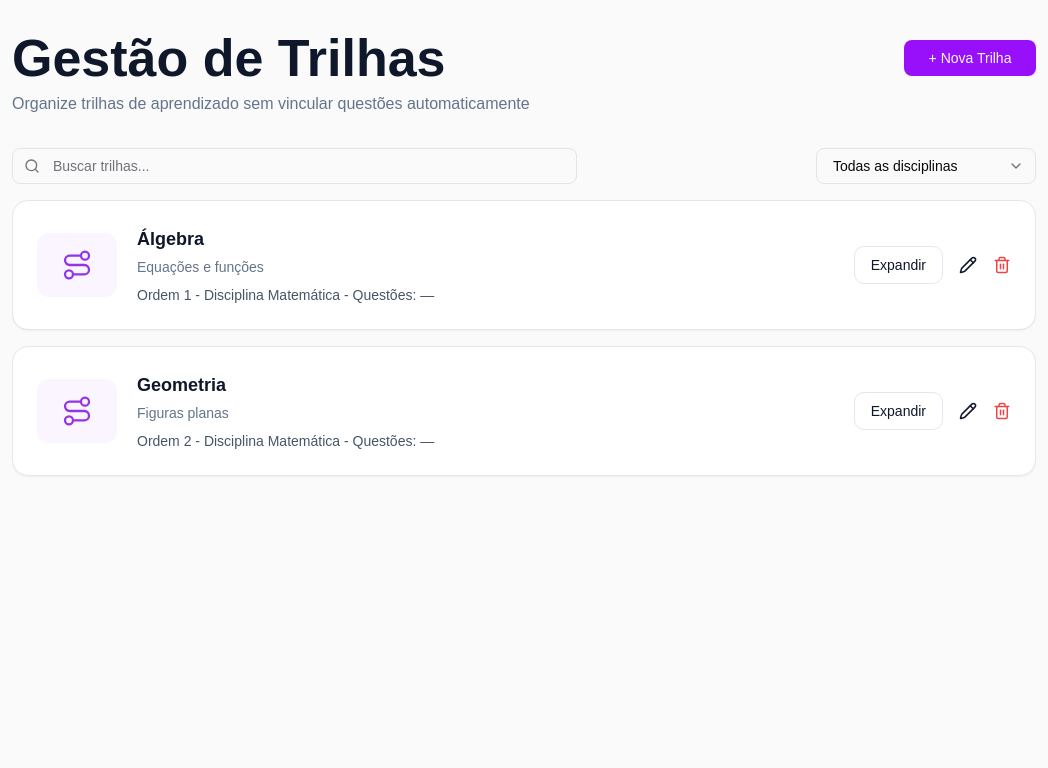
Test: TrailsPage › carrega questões apenas ao expandir e reaproveita o cache ao recolher e expandir
The image size is (1048, 768).
Expected: the heading "Álgebra" is shown, [137,229,204,249]
Click the button "Expandir" in the row of "Equações e funções" at {"x": 898, "y": 265}, box [854,246,943,284]
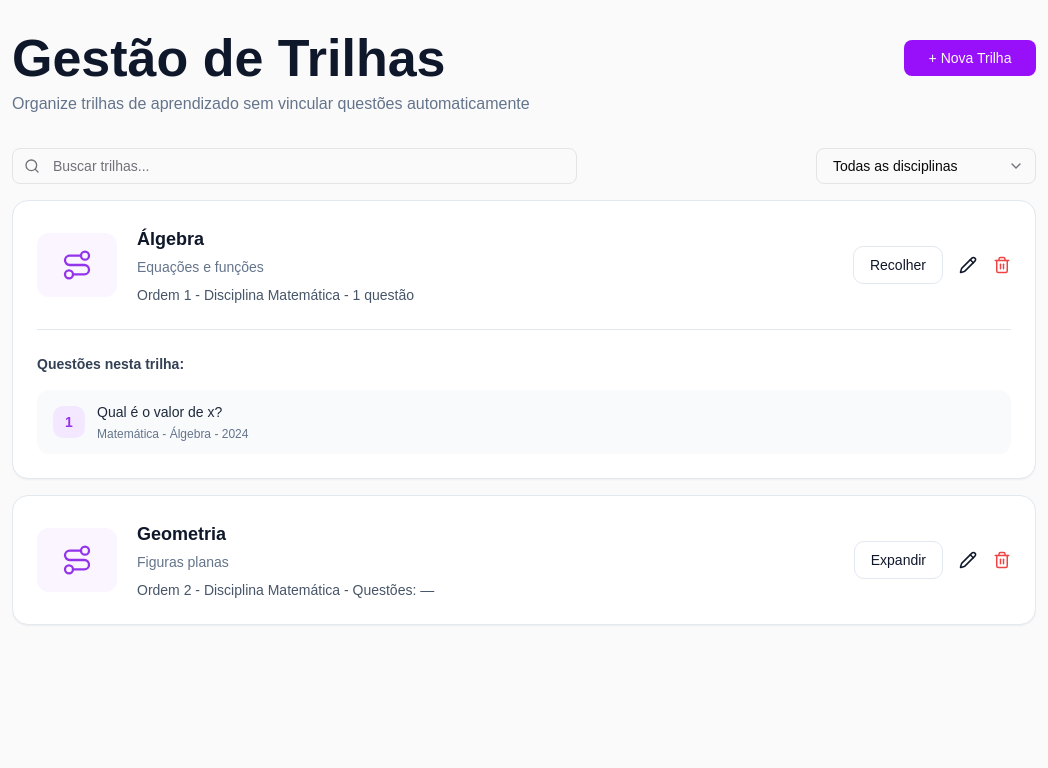
Expected: the text "Qual é o valor de x?" is shown, [97,404,222,420]
Expected: the text "Ordem 1 - Disciplina Matemática - 1 questão" is shown, [137,287,414,303]
Click the button "Recolher" at {"x": 898, "y": 265}, box [853,246,943,284]
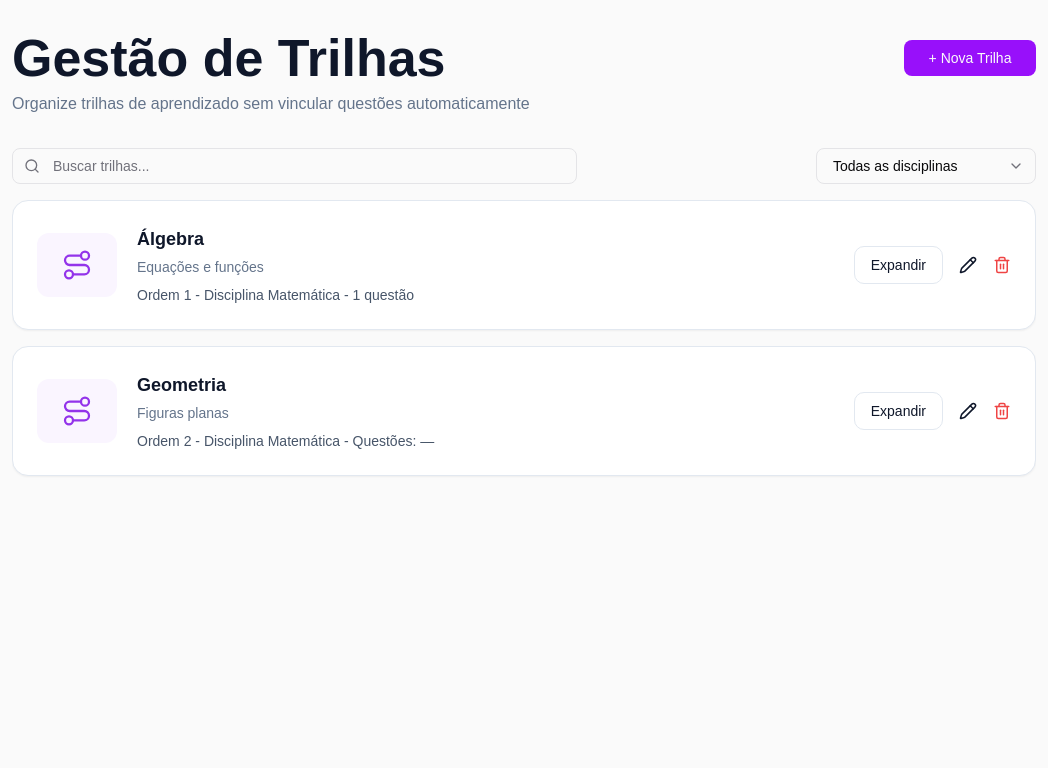
Expected: the text "Qual é o valor de x?" is gone
Click the button "Expandir" in the row of "Equações e funções" at {"x": 898, "y": 265}, box [854,246,943,284]
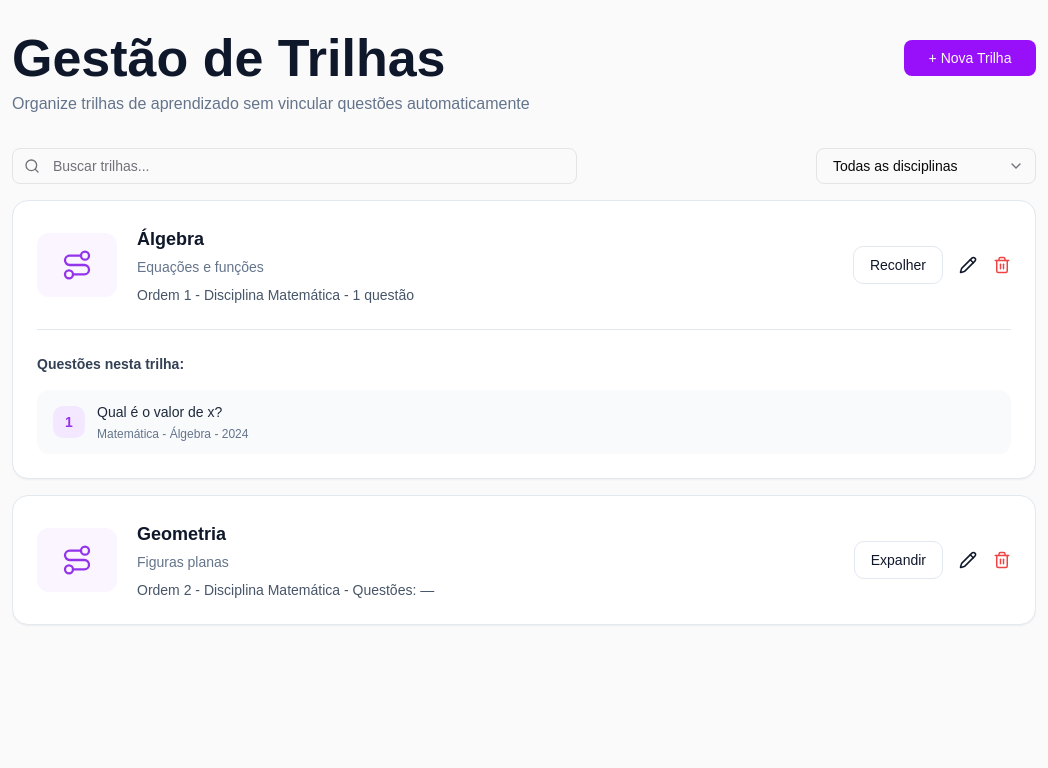
Expected: the text "Qual é o valor de x?" is shown, [97,404,222,420]
